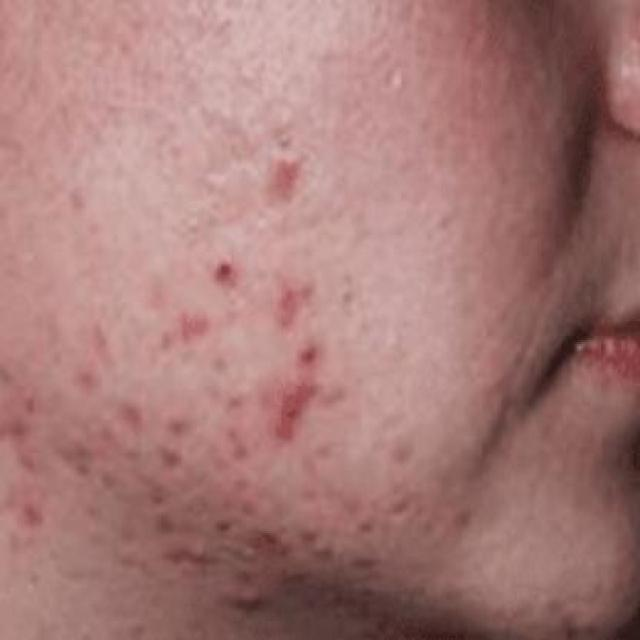blackheads: (200, 231, 251, 294), (278, 317, 328, 378)
